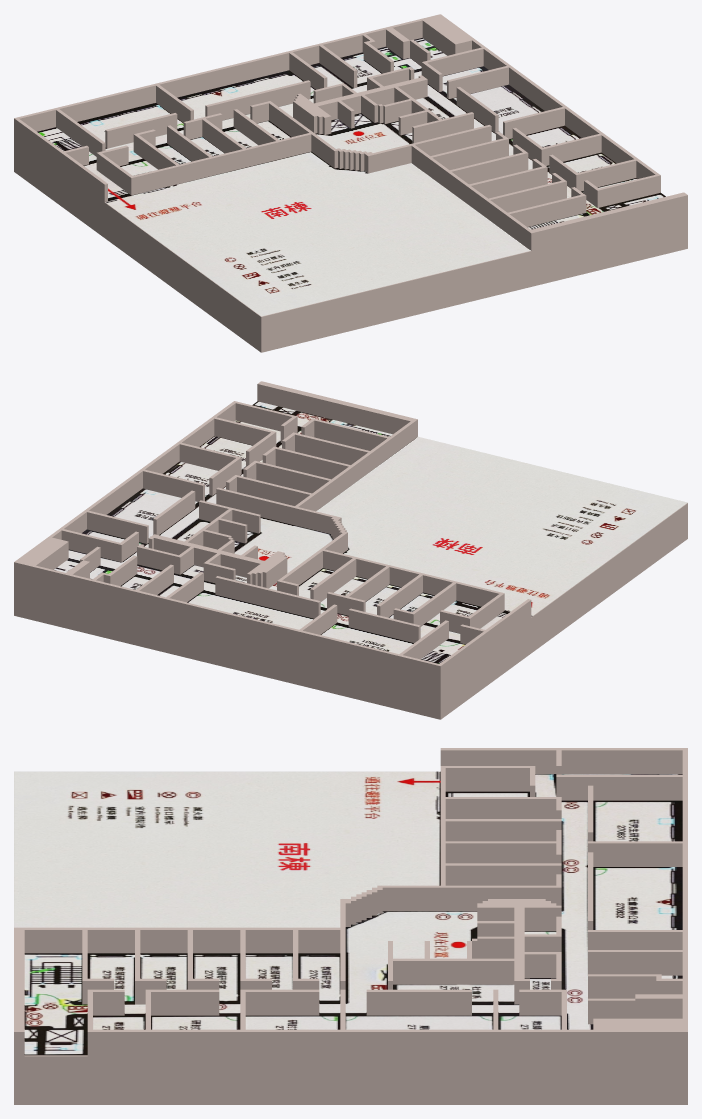
Rendered from General-8F-cube.glb.
The picture shows the model from 3 angles, top to bottom: view 1: azimuth 30°, elevation 25°; view 2: azimuth 150°, elevation 25°; view 3: azimuth 270°, elevation 25°; orthographic projection. The views are drawn at different scales.
Parts seen in each view (by area): view 1: Cube, Plane; view 2: Cube, Plane; view 3: Cube, Plane.
Boxes of the visible parts, left/top/right/bottom form: Cube: left=14, top=14, right=687, bottom=352; Plane: left=37, top=38, right=665, bottom=316; Cube: left=14, top=381, right=687, bottom=719; Plane: left=54, top=401, right=687, bottom=663; Cube: left=14, top=748, right=687, bottom=1104; Plane: left=14, top=771, right=682, bottom=1055.
Size of the model in its own units: 25 by 3 by 25.1.
Materials: 2 (1 with a texture image).
